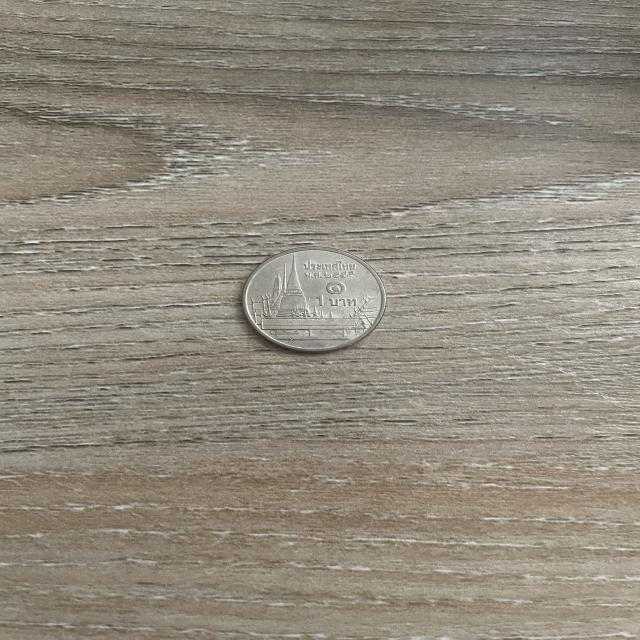1 Bath: (235, 241, 392, 361)
